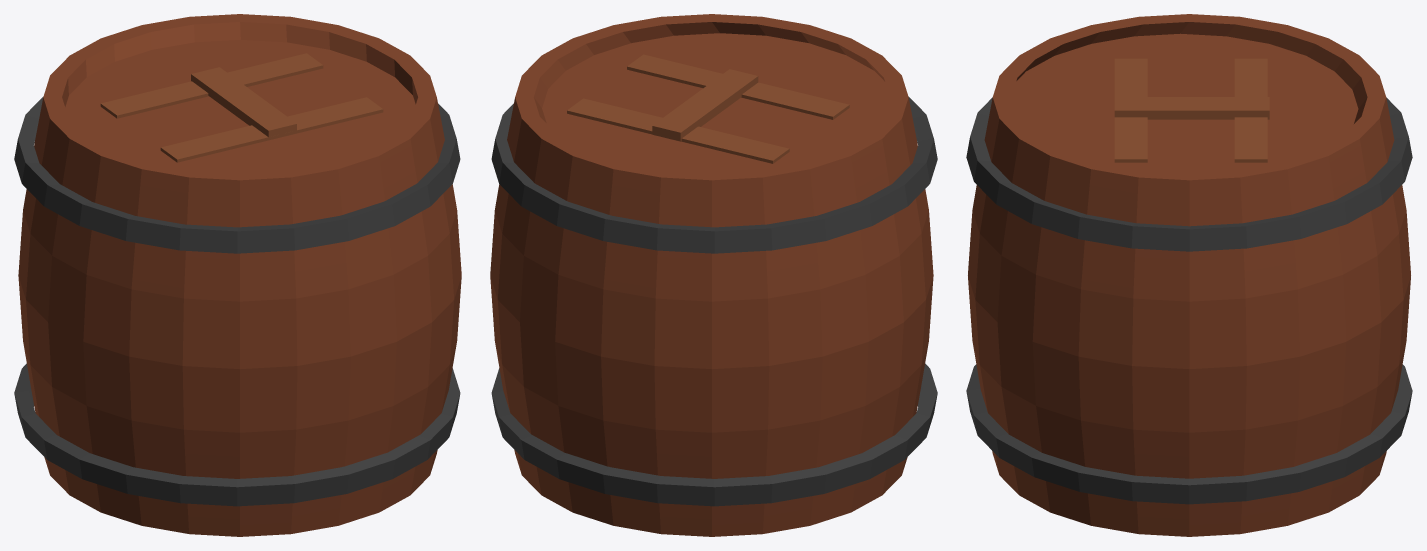
Rendered from Barrel.fbx.
3 renders of one model, left to right at view 1: azimuth 30°, elevation 25°; view 2: azimuth 150°, elevation 25°; view 3: azimuth 270°, elevation 25°, orthographic.
Visible parts, largest first — view 1: Barrel; view 2: Barrel; view 3: Barrel.
Boxes of the visible parts, <box> form: Barrel: <box>14,14,461,536</box>; Barrel: <box>490,14,937,536</box>; Barrel: <box>966,14,1412,536</box>.
Size of the model in its own units: 181 by 159 by 181.
